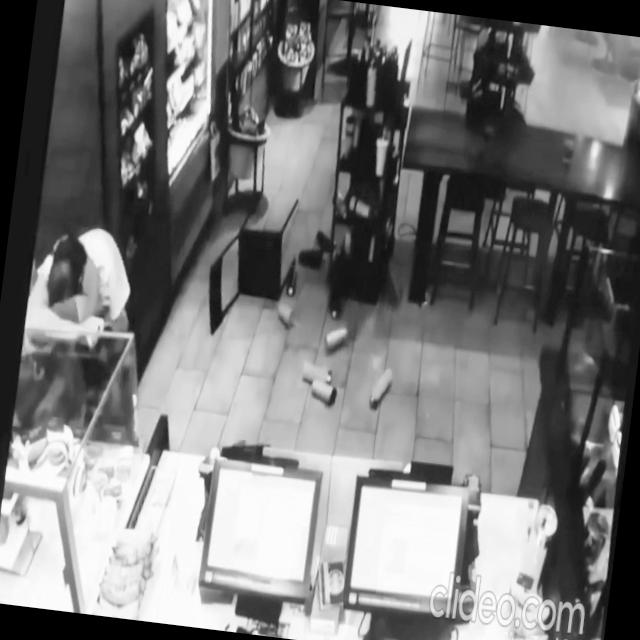gun: (80, 318, 122, 353)
person: (10, 239, 110, 440)
person with a gun: (11, 218, 165, 446)
